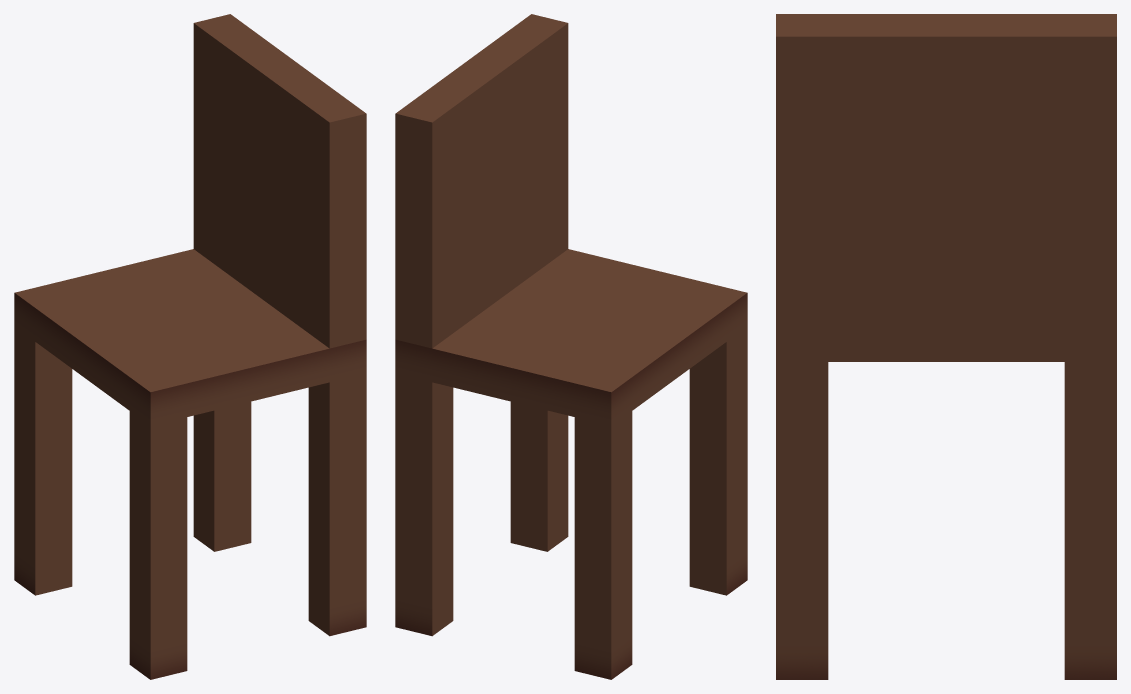
The model's file is Chaise1.fbx.
The picture shows the model from 3 angles, left to right: view 1: azimuth 30°, elevation 25°; view 2: azimuth 150°, elevation 25°; view 3: azimuth 270°, elevation 25°; orthographic projection. The views are drawn at different scales.
Visible parts, largest first — view 1: Chaise1; view 2: Chaise1; view 3: Chaise1.
Part boxes in pixels (left/top/right/bottom): Chaise1: left=14, top=14, right=366, bottom=679; Chaise1: left=395, top=14, right=747, bottom=679; Chaise1: left=776, top=14, right=1116, bottom=679.
Bounding box in the file's own units: 0.55 × 1.25 × 0.6.
